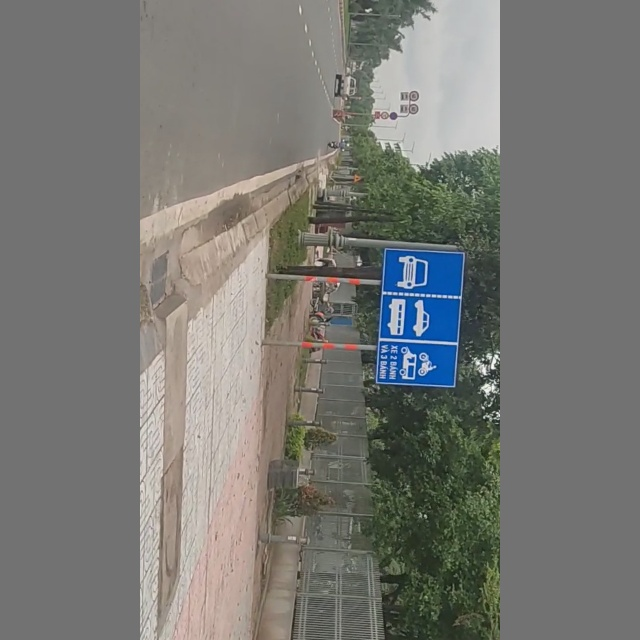R.415a: (379, 241, 465, 389)
